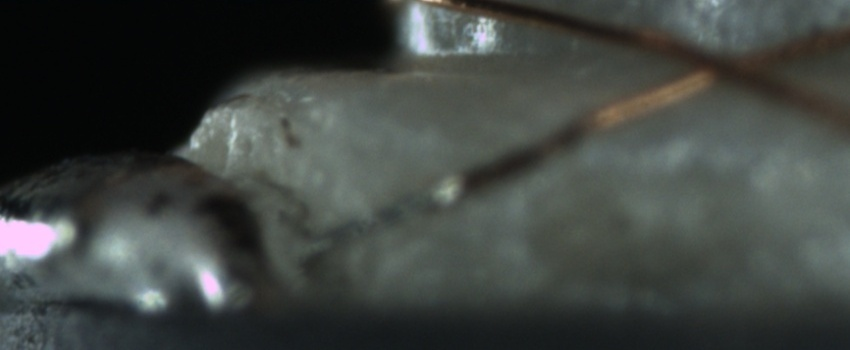CL: (668, 36, 795, 90)
DL: (444, 119, 850, 175)
TS: (297, 173, 463, 258)
TTCW: (296, 155, 503, 262)
